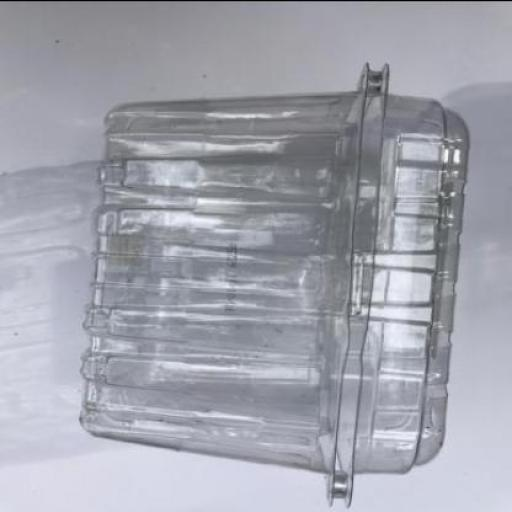plastic: (77, 64, 468, 510)
